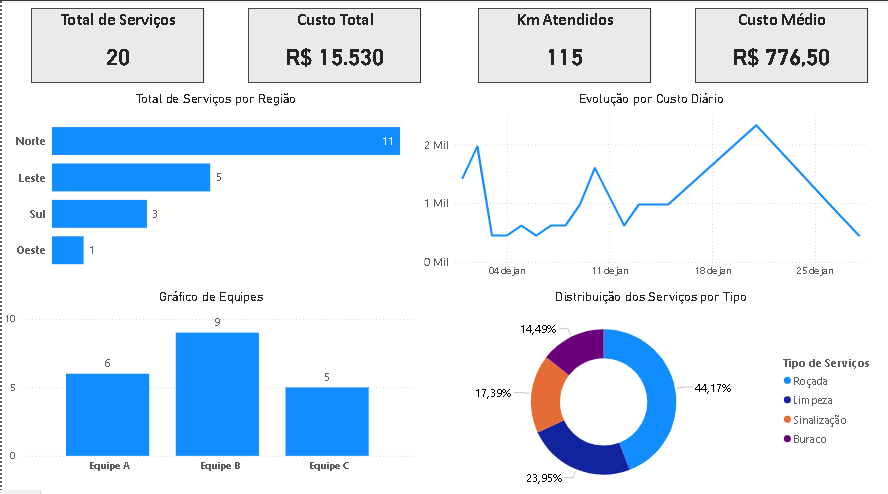

What the dashboard file says about the page in this screenshot:
{"tool":"powerbi","page":{"name":"Página 1","canvas":[1280,720],"ordinal":0},"visuals":[{"type":"card","title":"Total de Serviços","fields":{"Values":["Serviços.total serviços"]},"box":[41.8,11.5,249.1,108],"z":0},{"type":"card","title":"Custo Total","fields":{"Values":["Sum(Serviços.custo)"]},"box":[354.2,11.5,249.1,108],"z":1000},{"type":"card","title":"Km Atendidos","fields":{"Values":["Calendário.Km Atendidos"]},"box":[685.4,11.5,249.1,108],"z":2000},{"type":"card","title":"Custo Médio","fields":{"Values":["Serviços.Custo Médio"]},"box":[997.9,11.5,249.1,108],"z":3000},{"type":"barChart","title":"Total de Serviços por Região","fields":{"Category":["Serviços.região"],"Y":["Serviços.total serviços"]},"box":[12.9,131.4,590,277.1],"z":4000},{"type":"donutChart","title":"Distribuição dos Serviços por Tipo","fields":{"Category":["Serviços.tipo_serviço"],"Y":["Sum(Serviços.custo)"]},"box":[602.9,415.7,662.9,304.3],"z":5000},{"type":"columnChart","title":"Gráfico de Equipes","fields":{"Category":["Serviços.equipe"],"Y":["CountNonNull(Serviços.tipo_serviço)"]},"box":[0,415.7,602.9,274.3],"z":6000},{"type":"lineChart","title":"Evolução por Custo Diário","fields":{"Y":["Sum(Serviços.custo)"],"Category":["Serviços.data"]},"box":[602.9,131.4,662.9,277.1],"z":7000}]}

Visuals, with their boxes in screenshot pixels (x1, y1, x2, y2), scaled from the page's 1280x720 canvas onto the 888x494 screenshot:
"Total de Serviços" card: (29, 8, 202, 82)
"Custo Total" card: (246, 8, 419, 82)
"Km Atendidos" card: (475, 8, 648, 82)
"Custo Médio" card: (692, 8, 865, 82)
"Total de Serviços por Região" barChart: (9, 90, 418, 280)
"Distribuição dos Serviços por Tipo" donutChart: (418, 285, 878, 493)
"Gráfico de Equipes" columnChart: (0, 285, 418, 473)
"Evolução por Custo Diário" lineChart: (418, 90, 878, 280)
